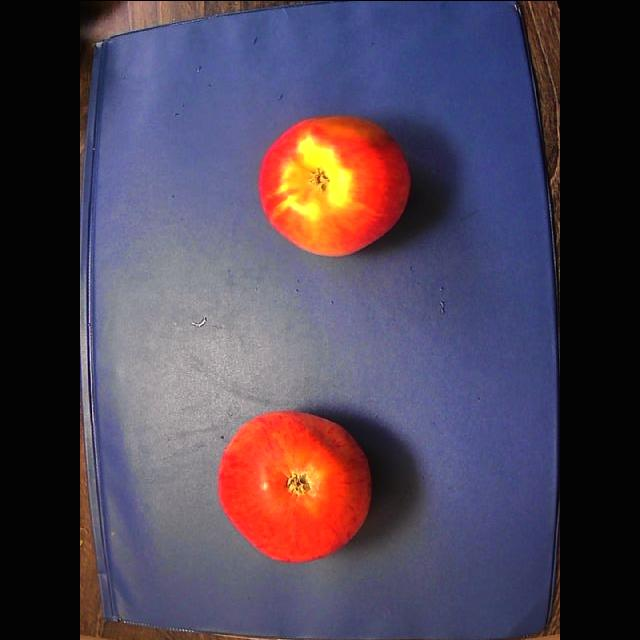manzana: (218, 410, 371, 561), (259, 115, 410, 256)
